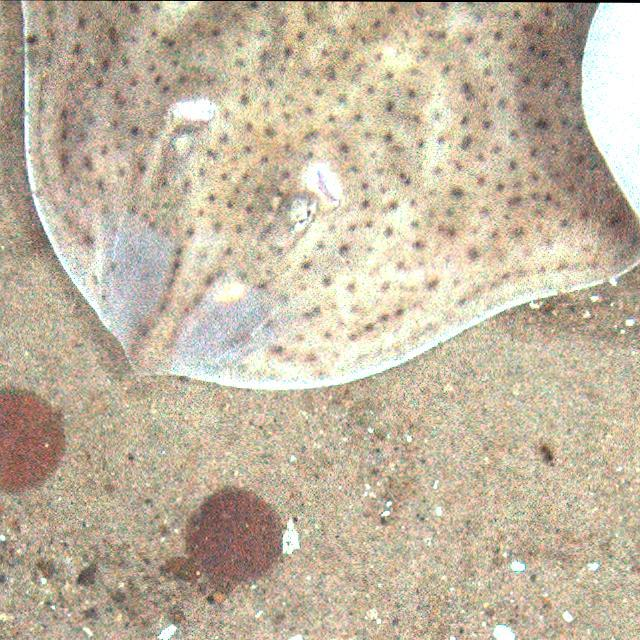skate: (18, 0, 636, 394)
